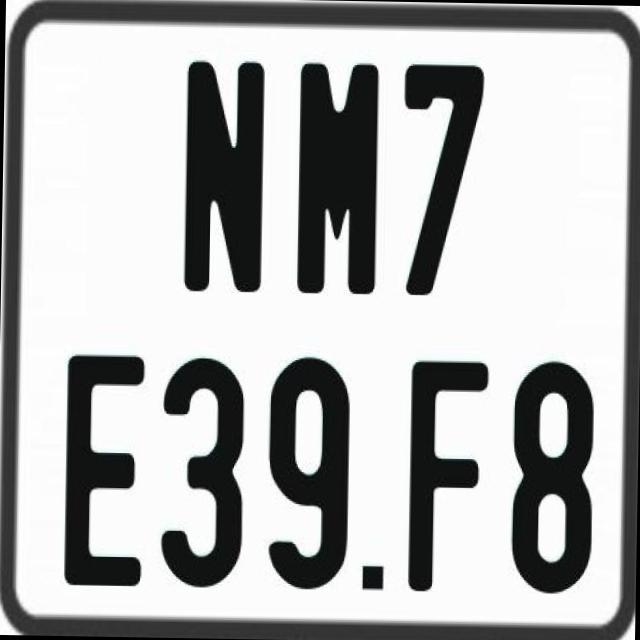3: (160, 357, 250, 597)
7: (397, 62, 488, 304)
8: (510, 355, 600, 595)
9: (266, 353, 357, 586)
E: (62, 354, 152, 586)
F: (407, 360, 494, 600)
M: (296, 64, 384, 299)
N: (182, 60, 264, 292)
